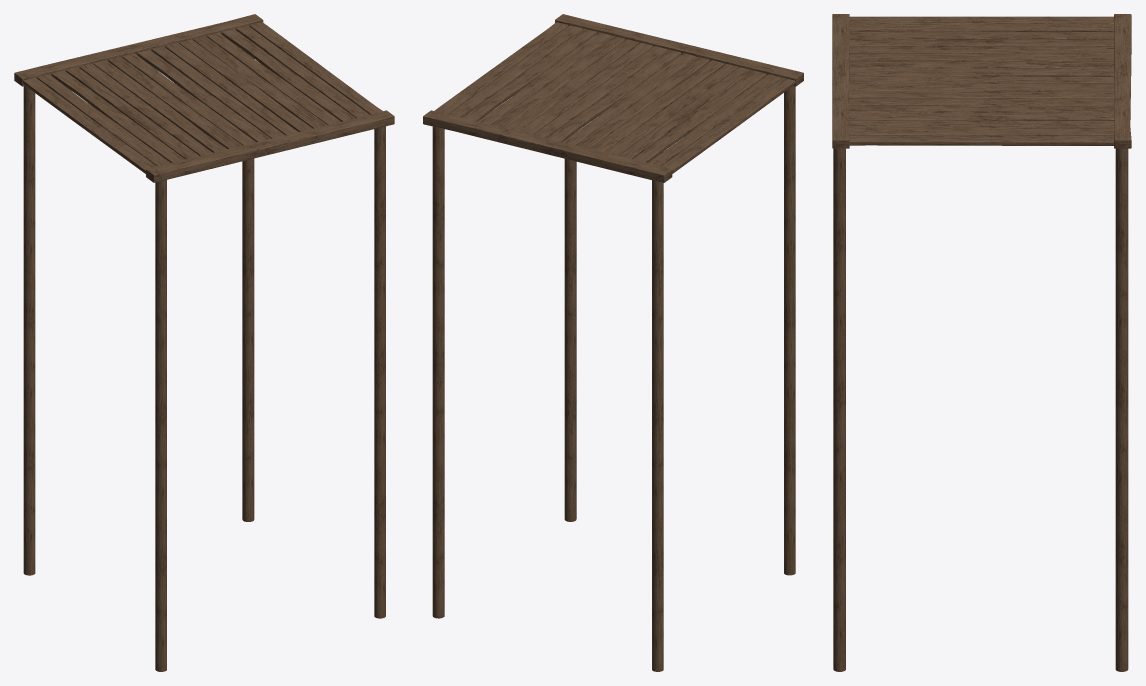
Rendered from SM_port_module_01.fbx.
3 renders of one model, left to right at view 1: azimuth 30°, elevation 25°; view 2: azimuth 150°, elevation 25°; view 3: azimuth 270°, elevation 25°, orthographic. The views are drawn at different scales.
Visible parts, largest first — view 1: SM_port_module_01; view 2: SM_port_module_01; view 3: SM_port_module_01.
Part boxes in pixels (left/top/right/bottom): SM_port_module_01: left=14, top=14, right=394, bottom=671; SM_port_module_01: left=423, top=14, right=803, bottom=671; SM_port_module_01: left=832, top=14, right=1131, bottom=671.
Size of the model in its own units: 301 by 302 by 595.
Materials: 1 (1 with a texture image).
